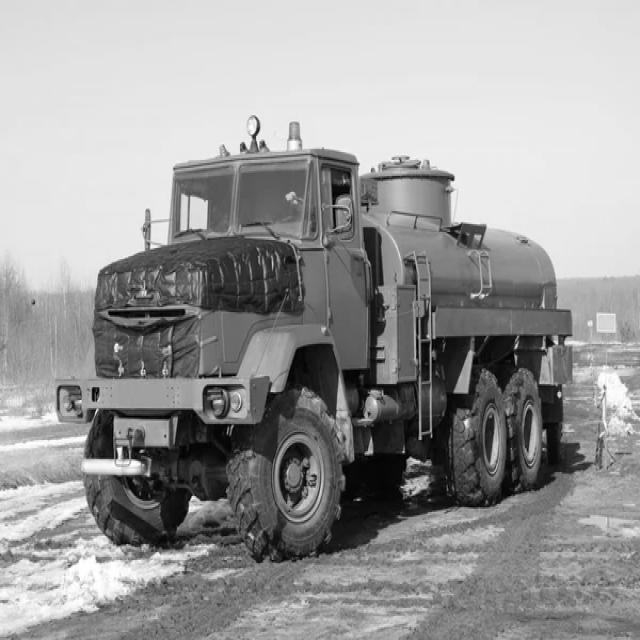Truck: (54, 144, 573, 559)
